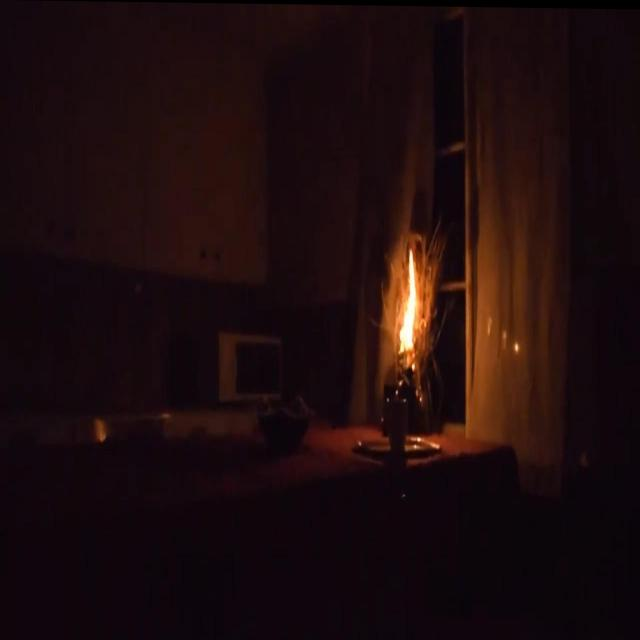fire: (390, 237, 424, 363)
